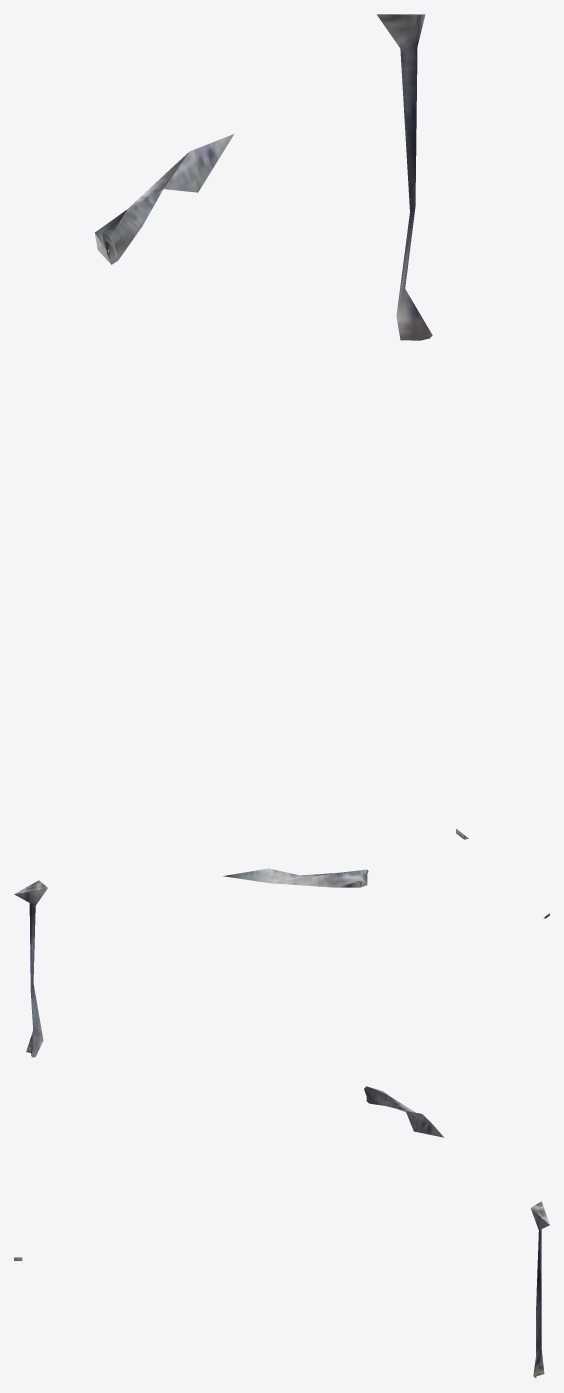
The picture shows the model from 3 angles, top to bottom: view 1: azimuth 30°, elevation 25°; view 2: azimuth 150°, elevation 25°; view 3: azimuth 270°, elevation 25°; orthographic projection. The views are drawn at different scales.
Parts seen in each view (by area): view 1: 30436272704370435617_0; view 2: 30436272704370435617_0; view 3: 30436272704370435617_0.
Boxes of the visible parts, x1,y1,x2,y2 form: 30436272704370435617_0: [95, 14, 468, 839]; 30436272704370435617_0: [14, 868, 549, 1057]; 30436272704370435617_0: [14, 1086, 549, 1377].
Size of the model in its own units: 15.95 by 10.94 by 29.78.
Materials: 1 (1 with a texture image).
